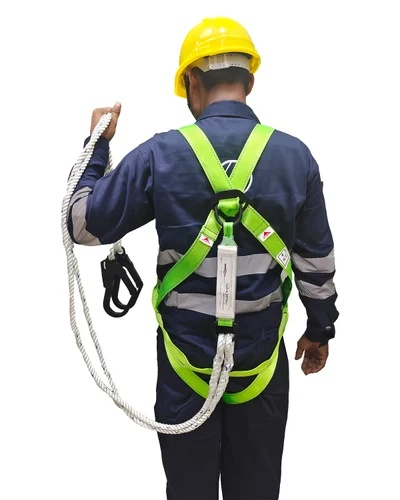Helmet: (172, 14, 261, 97)
Person: (51, 8, 323, 500)
Safety_Harness: (59, 111, 294, 438)
